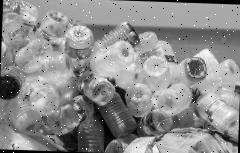plastic: (63, 22, 94, 72)
